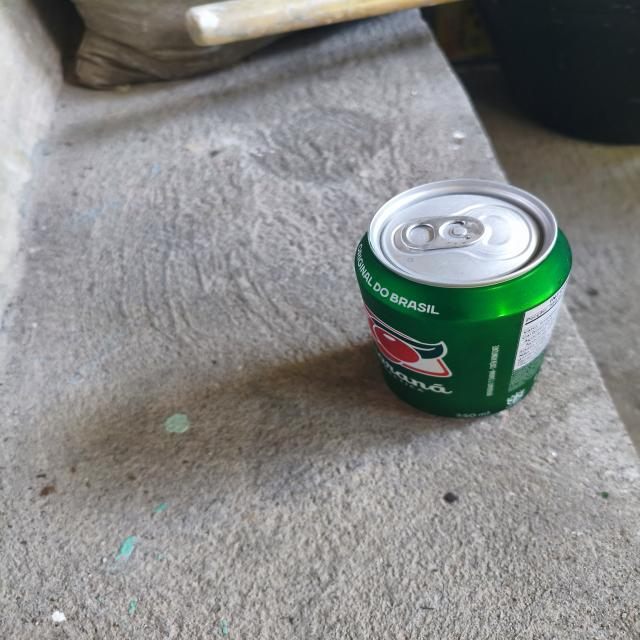Guarana: (346, 171, 587, 437)
